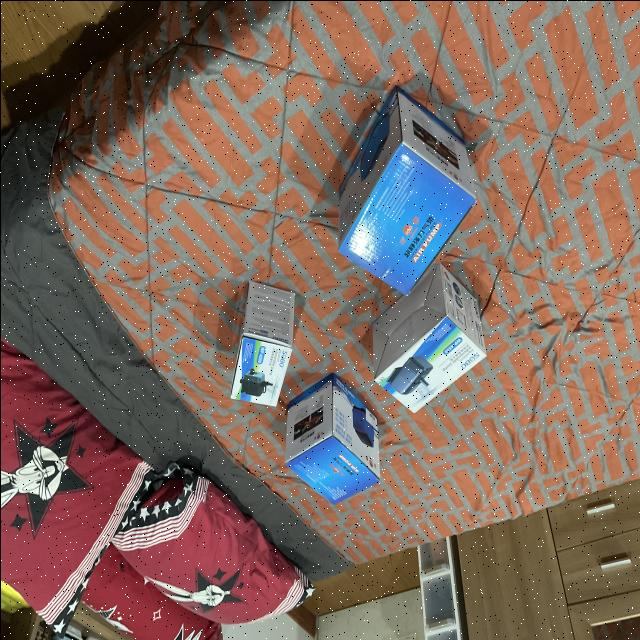SOBO_WP_4200: (374, 266, 492, 421), (220, 268, 302, 412)
YAMANO_LPP_20: (332, 80, 480, 290), (286, 369, 388, 517)
